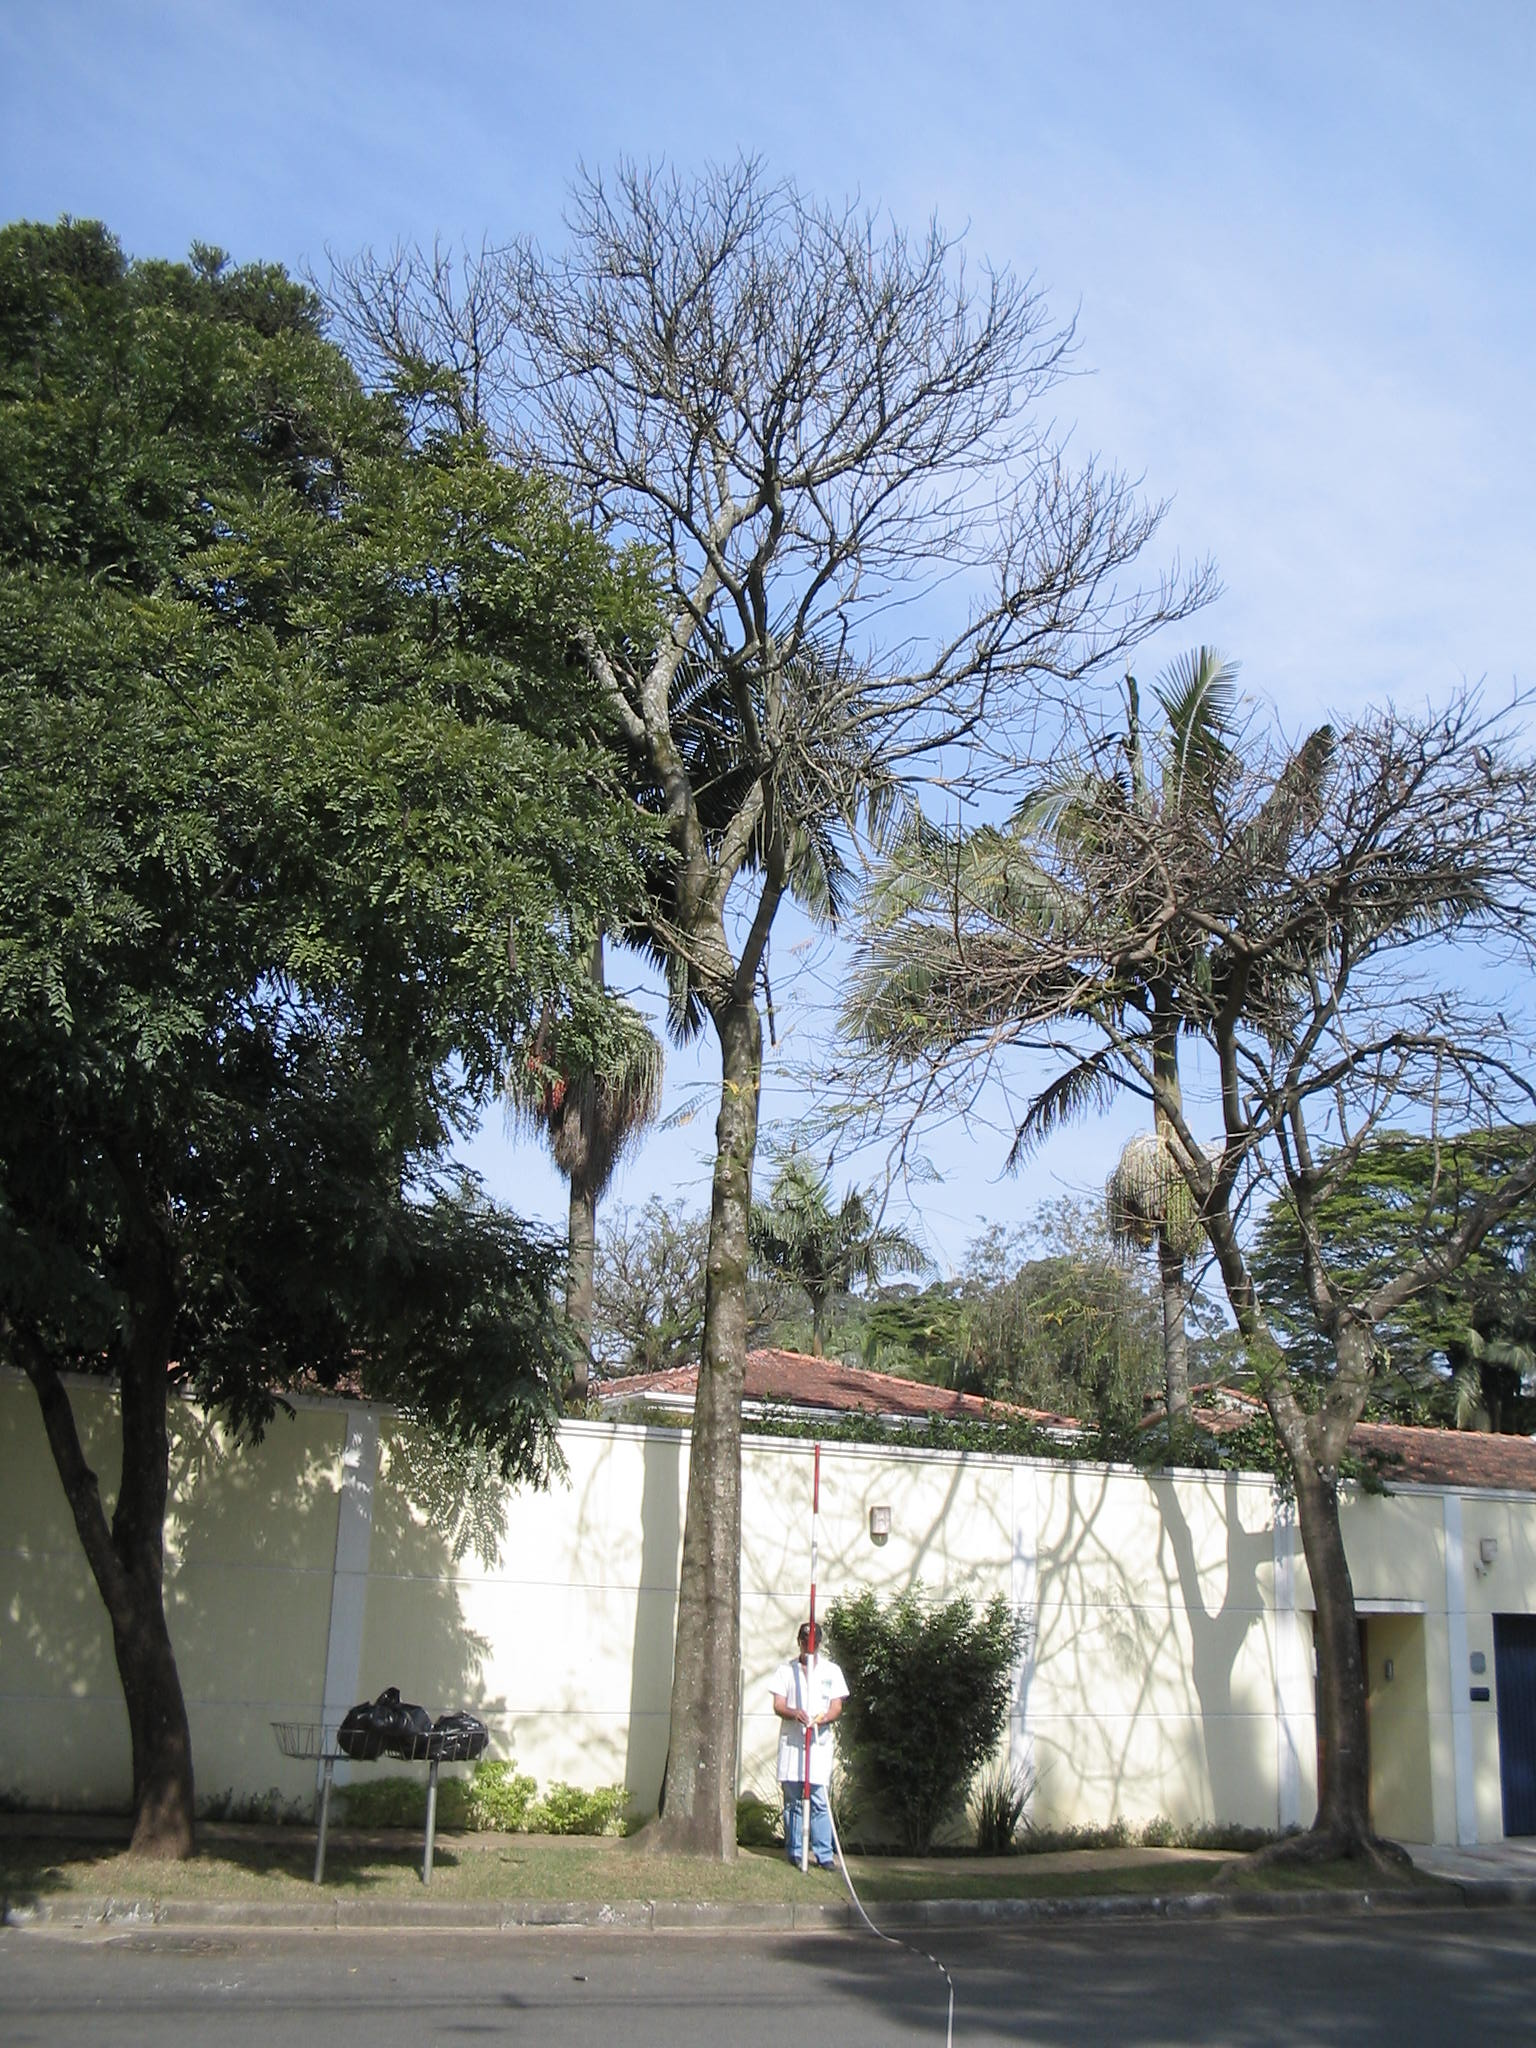crown: (15, 221, 637, 1500)
stem: (641, 1024, 787, 1854), (1242, 1458, 1407, 1866), (56, 1574, 236, 1863)
stick: (778, 1447, 842, 1875)
tree: (331, 147, 1225, 1858), (2, 216, 644, 1850), (842, 713, 1536, 1869)
